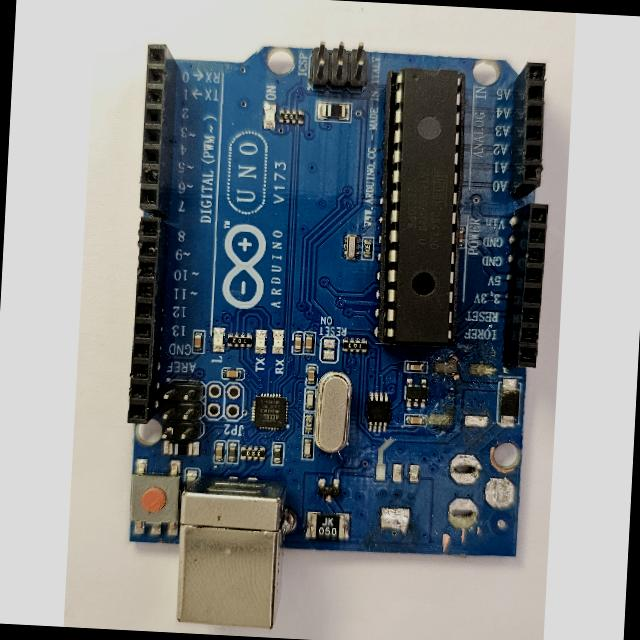missing_capacitors: (427, 356, 500, 434)
missing_eps: (443, 448, 502, 540)
missing_voltage_reg: (370, 453, 432, 540)
